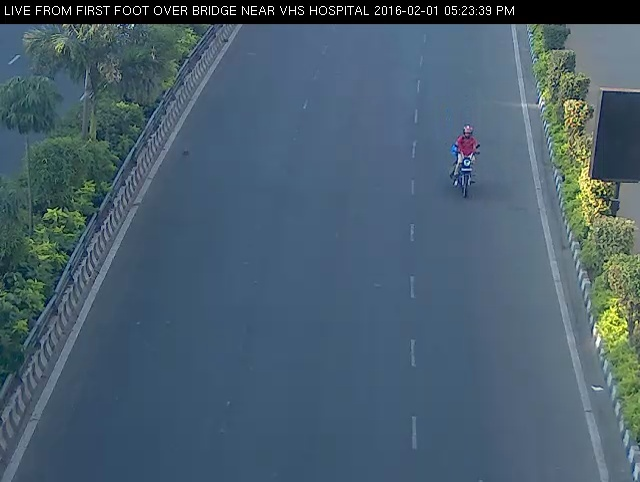Person: (441, 118, 487, 207)
